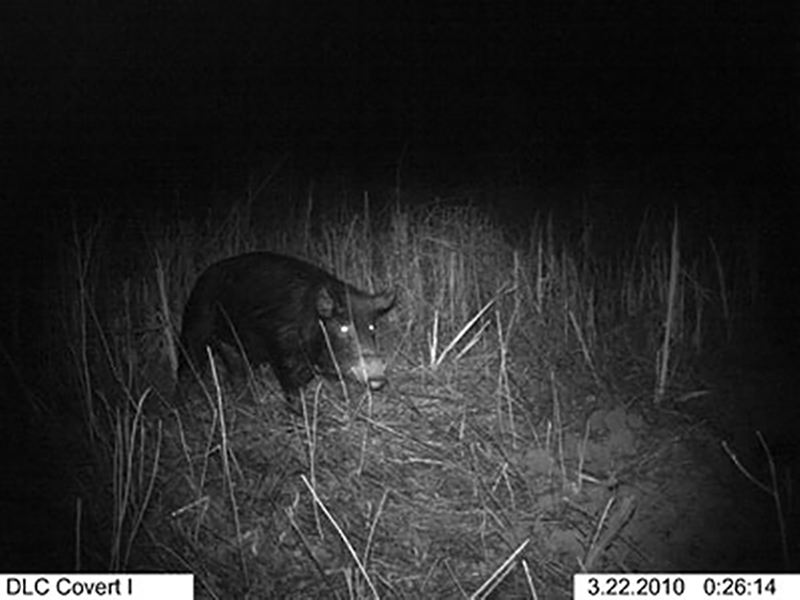cinghiale: (171, 249, 400, 400)
